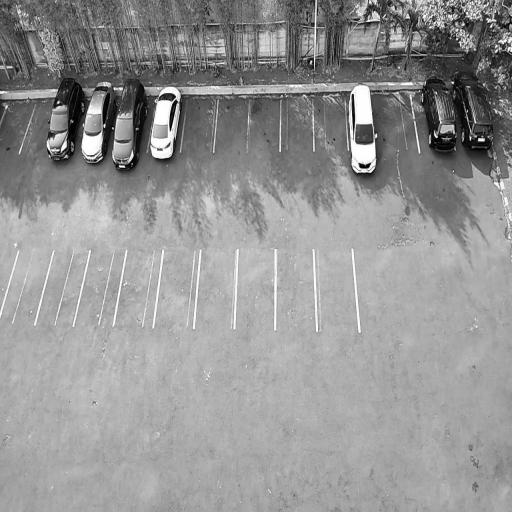Car: (106, 72, 152, 177), (42, 68, 90, 168), (449, 67, 499, 155), (416, 72, 464, 157), (76, 74, 119, 165), (345, 81, 381, 178), (146, 80, 186, 163)
Space Available: (35, 250, 91, 326), (74, 250, 126, 326), (0, 250, 53, 323), (113, 249, 163, 326), (153, 248, 200, 328), (314, 250, 359, 332), (193, 249, 238, 329), (235, 250, 276, 329), (276, 251, 316, 330), (213, 99, 250, 153), (180, 100, 219, 150), (313, 98, 349, 151), (280, 98, 314, 150), (247, 98, 281, 150), (0, 103, 35, 152), (19, 104, 53, 153), (0, 248, 19, 314)
